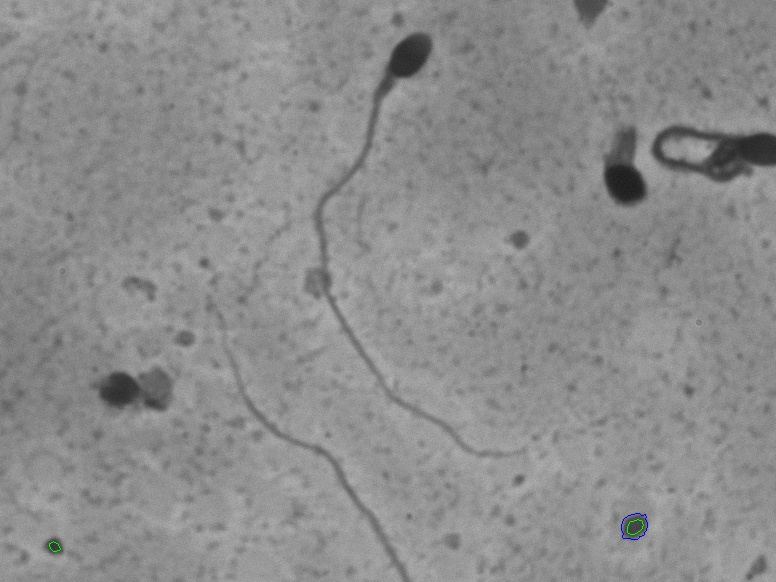Abnormal: (578, 109, 659, 242)
Normal: (303, 18, 535, 478)
